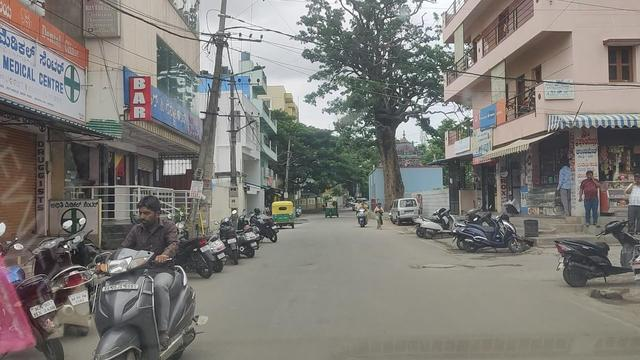LMV: (98, 193, 195, 360)
RoadDamages: (414, 259, 470, 275)
